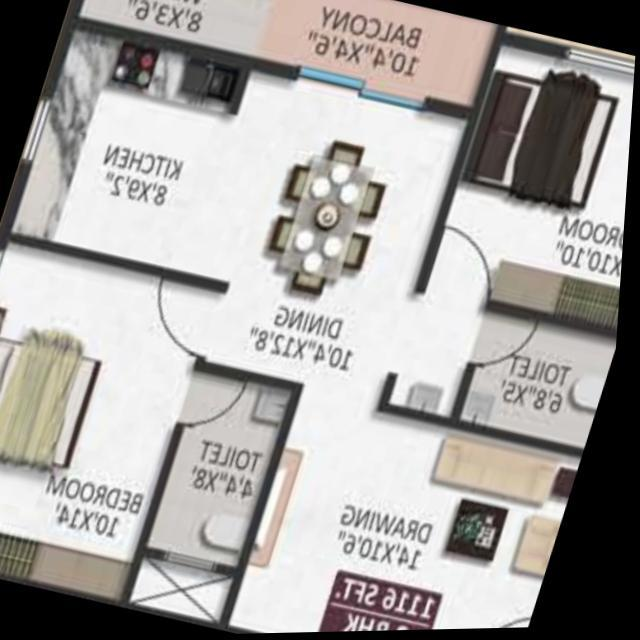Balcony-Sitout: (255, 0, 497, 108)
Bedroom with Toilet: (0, 234, 303, 607), (391, 44, 635, 454)
Dining: (253, 126, 403, 313)
Enterance-Foyer: (479, 596, 543, 631)
Kitchen: (14, 29, 282, 280)
Living: (238, 393, 588, 635)
Toilet: (154, 372, 297, 569), (466, 314, 621, 451)
Utility: (80, 0, 270, 57)
